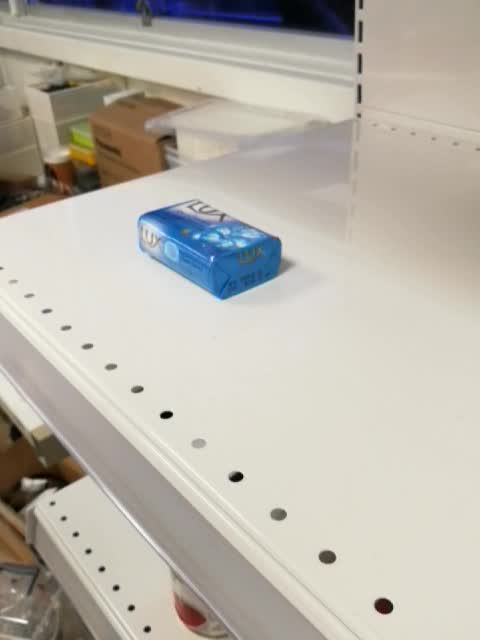soap: (138, 198, 282, 300)
